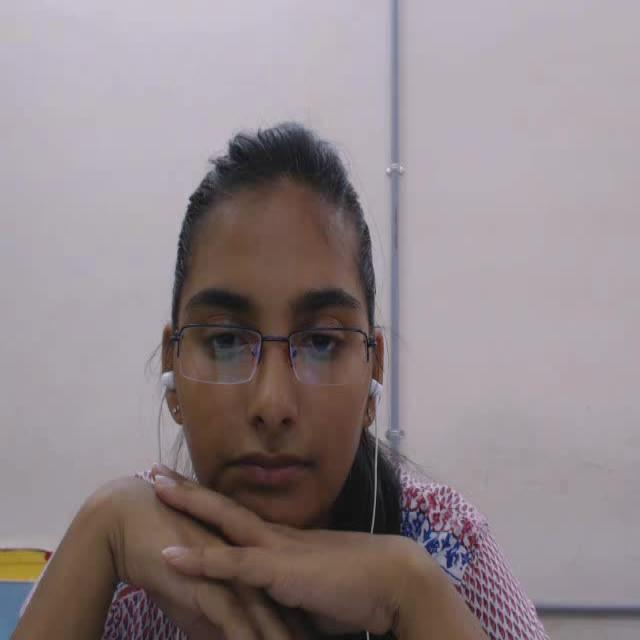Bored: (139, 107, 425, 559)
